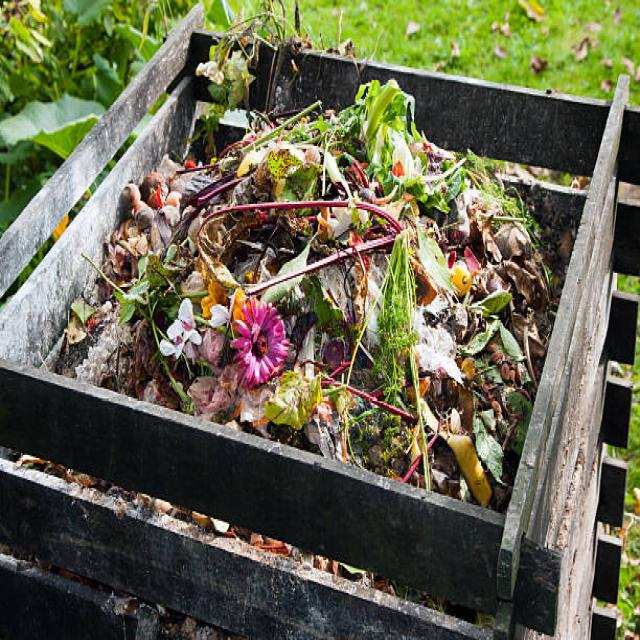Organic: (65, 78, 535, 494)
